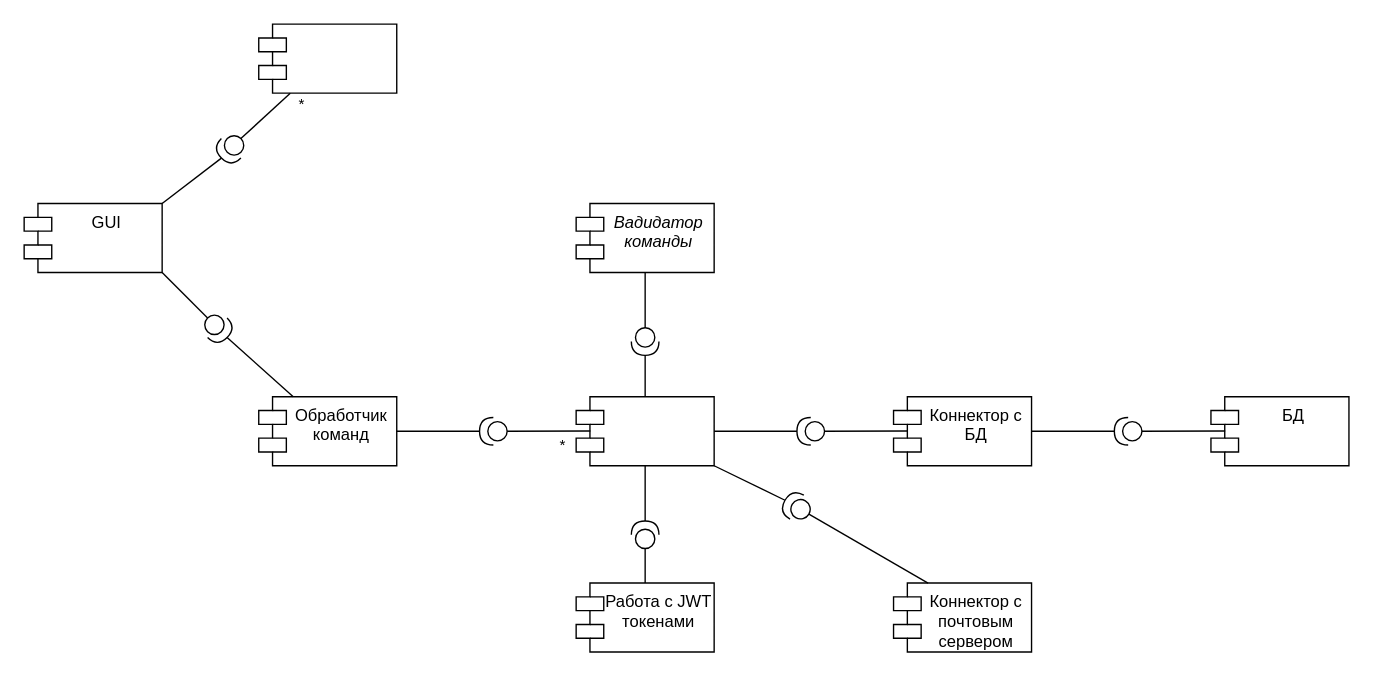
Some shapes in this 1373 by 676 pixel diagram are drawn without their labels. The centre of each missing label's shape, as x and y in pixels:
"Валидатор GUI" goes at (x=327, y=58).
"Обработчик команды" goes at (x=644, y=430).
